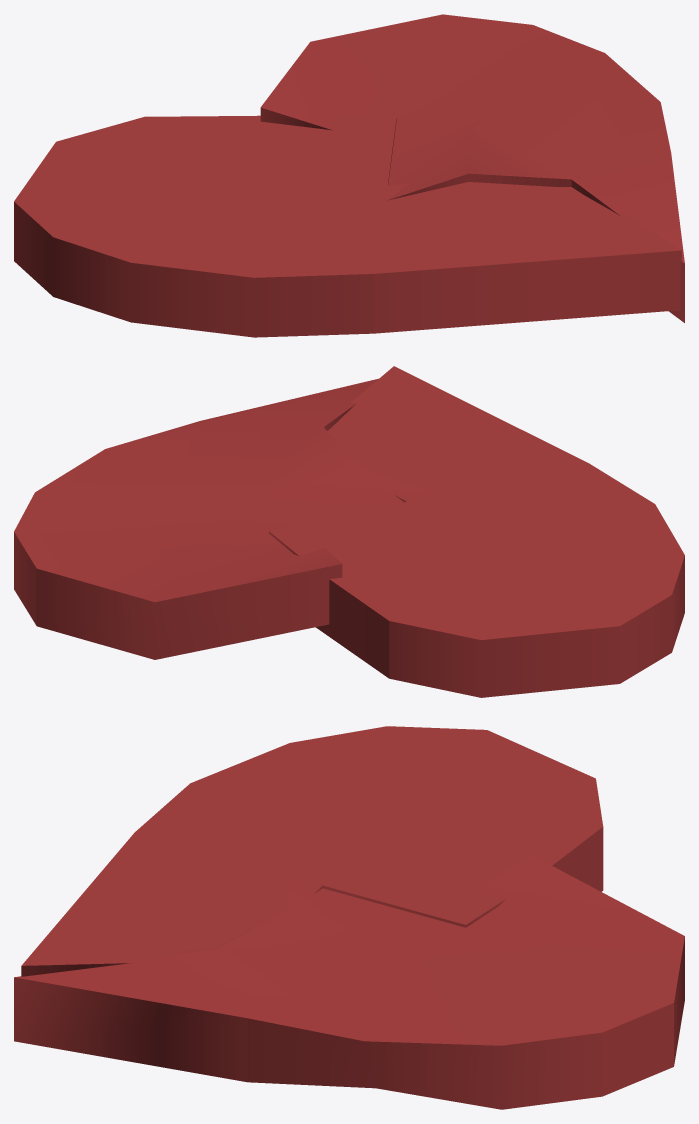
Rendered from heartanitest.fbx.
3 renders of one model, top to bottom at view 1: azimuth 30°, elevation 25°; view 2: azimuth 150°, elevation 25°; view 3: azimuth 270°, elevation 25°, orthographic. The views are drawn at different scales.
Parts seen in each view (by area): view 1: pCube4; view 2: pCube4; view 3: pCube4.
Boxes of the visible parts, left/top/right/bottom form: pCube4: left=14, top=14, right=684, bottom=337; pCube4: left=14, top=366, right=684, bottom=697; pCube4: left=14, top=726, right=684, bottom=1109.
Size of the model in its own units: 29.19 by 3.9 by 26.13.
